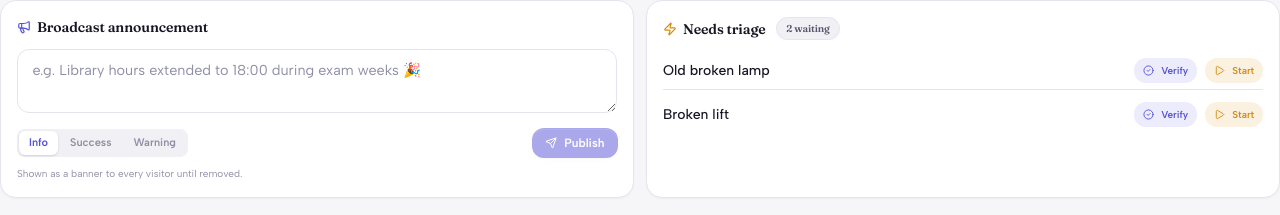
QuickActions — announcement broadcast › publishes an announcement via POST and shows the live banner
This screenshot has width=1280, height=215.
Type "Exam week schedule" into the text box named "Quick action announcement text".
click(317, 81); type("Exam week schedule")  # box top-left (17, 49), bottom-right (617, 113)
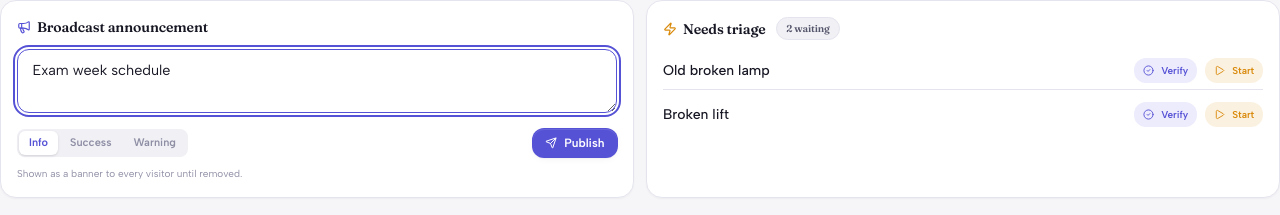
Click the button "Publish".
click(574, 143)  # box top-left (532, 128), bottom-right (617, 158)
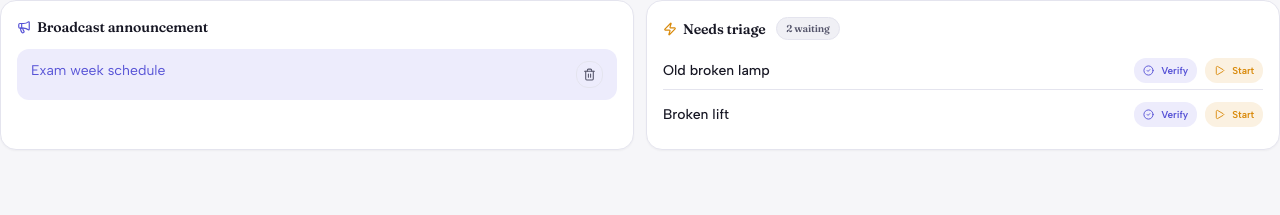
Check: the text "Exam week schedule" is shown, box top-left (31, 62), bottom-right (165, 79)
